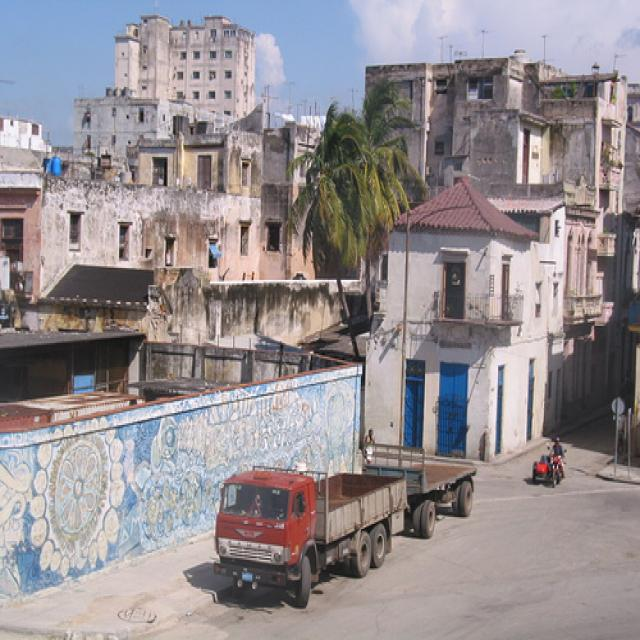motor: (532, 451, 566, 491)
